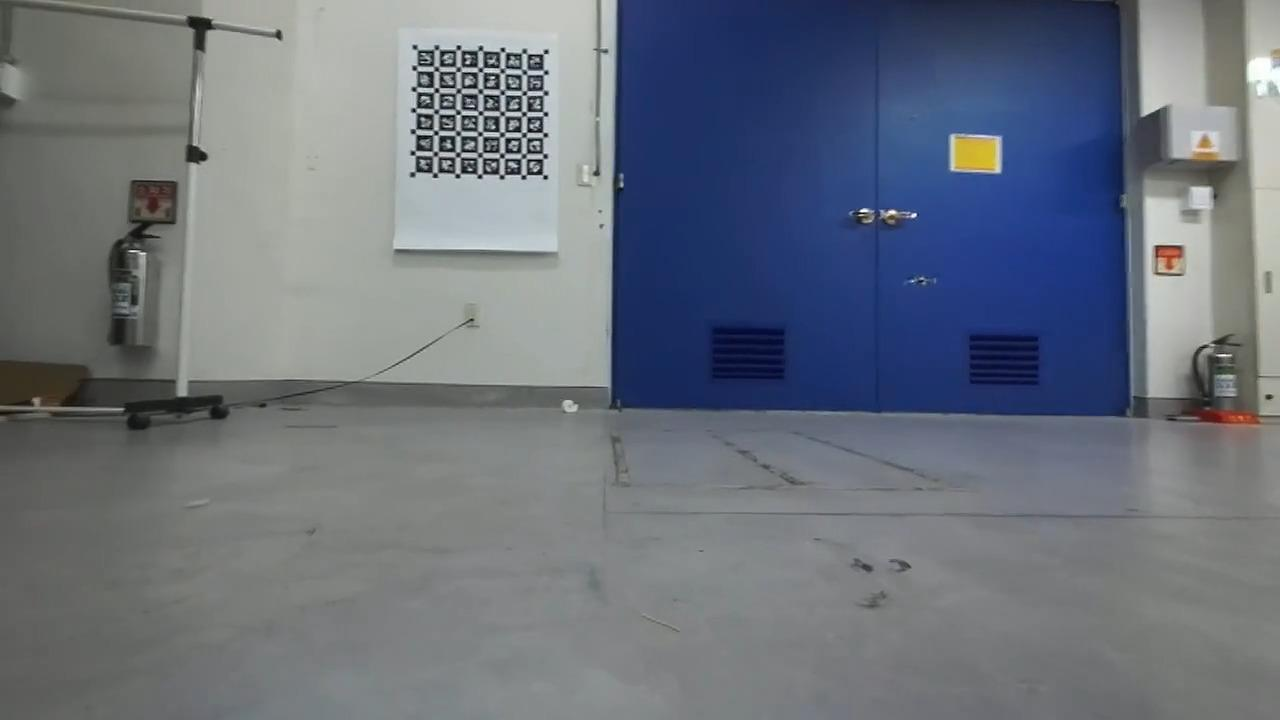crazyflie: (902, 271, 939, 290)
